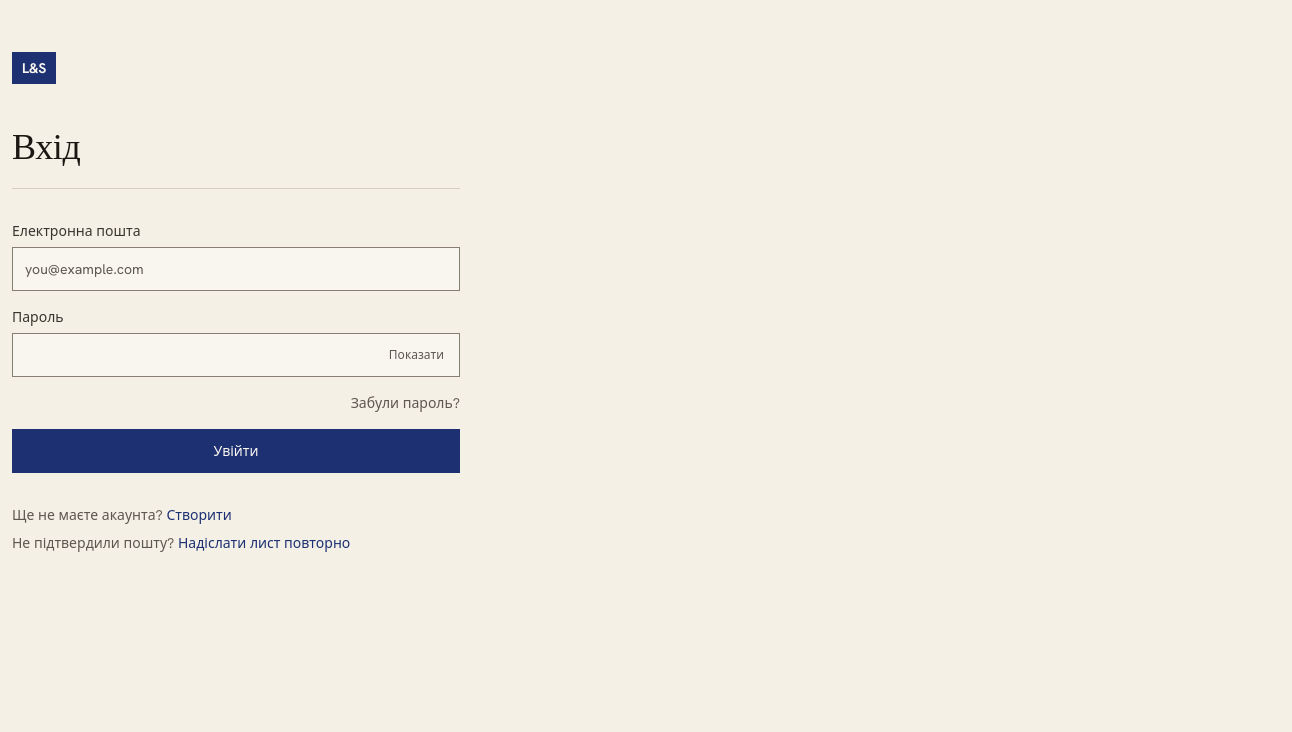
Test: LoginPage › sends the reader on once the credentials are accepted
Step 1. Type "learner@example.com" into the field labelled "Електронна пошта" → coordinates (236, 269), box [12,247,460,291]
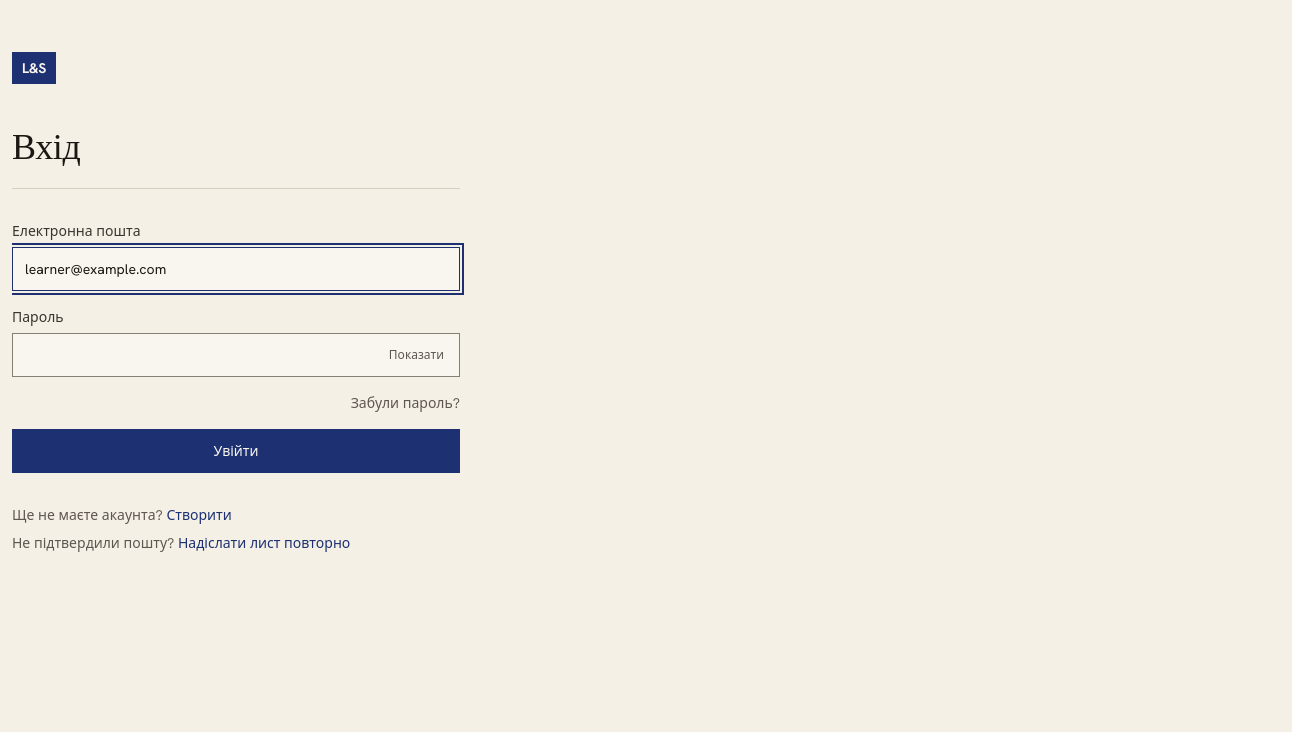
Step 2. Type "ValidPass1!" into the password field labelled "Пароль" → coordinates (236, 355), box [12,333,460,377]
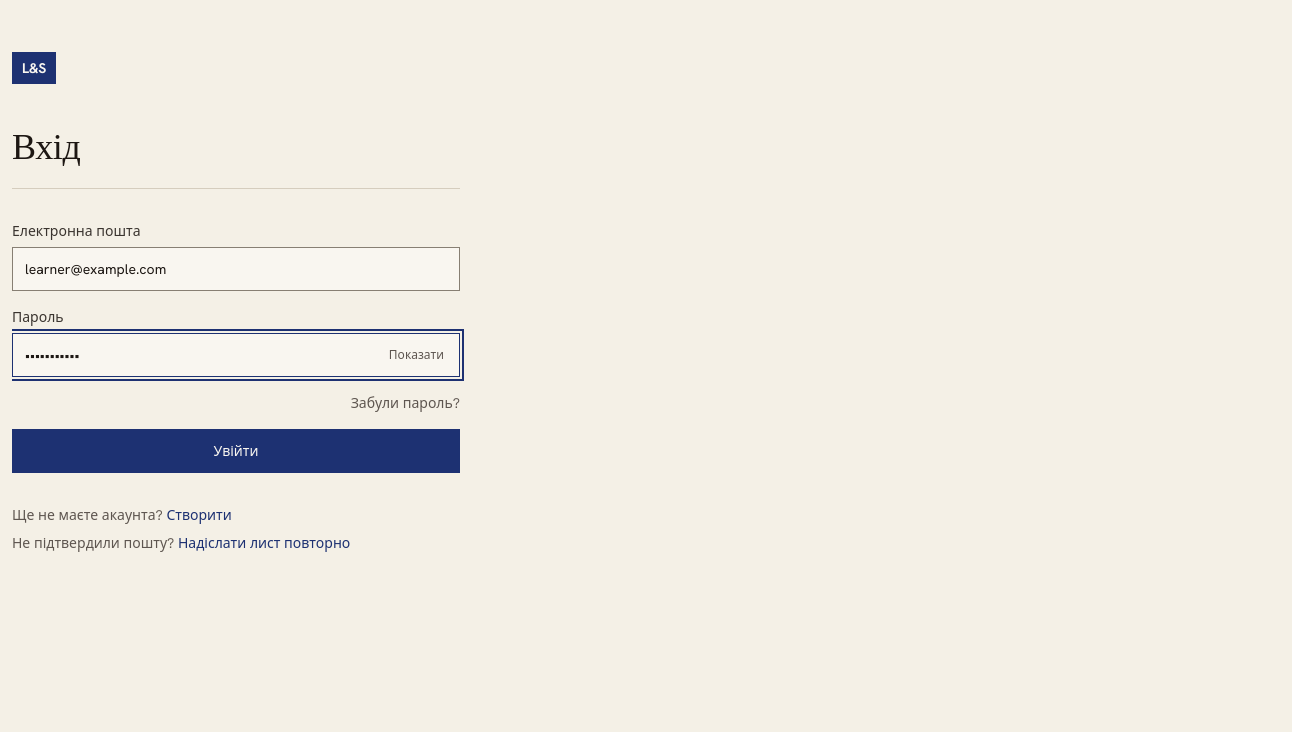
Step 3. Click the button "Увійти" → coordinates (236, 451), box [12,429,460,473]
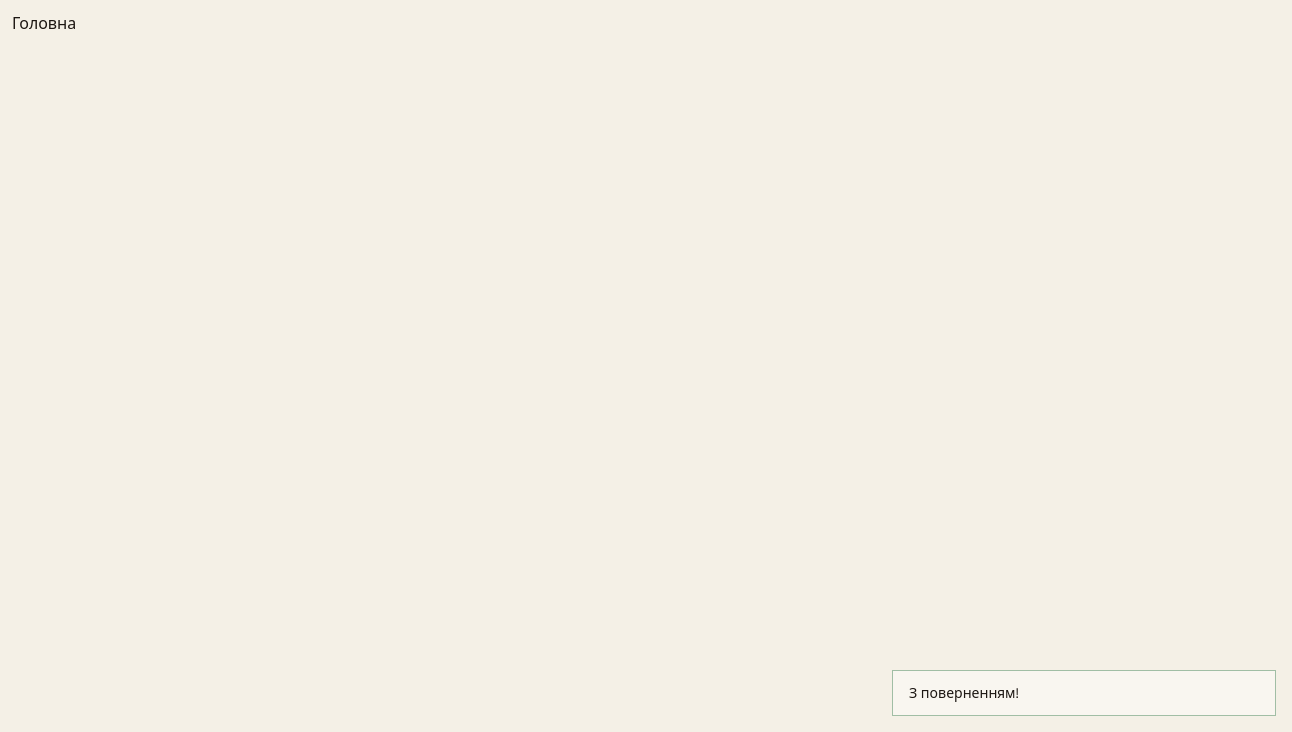
Expected: the text "Головна" is shown, [12,13,76,34]
